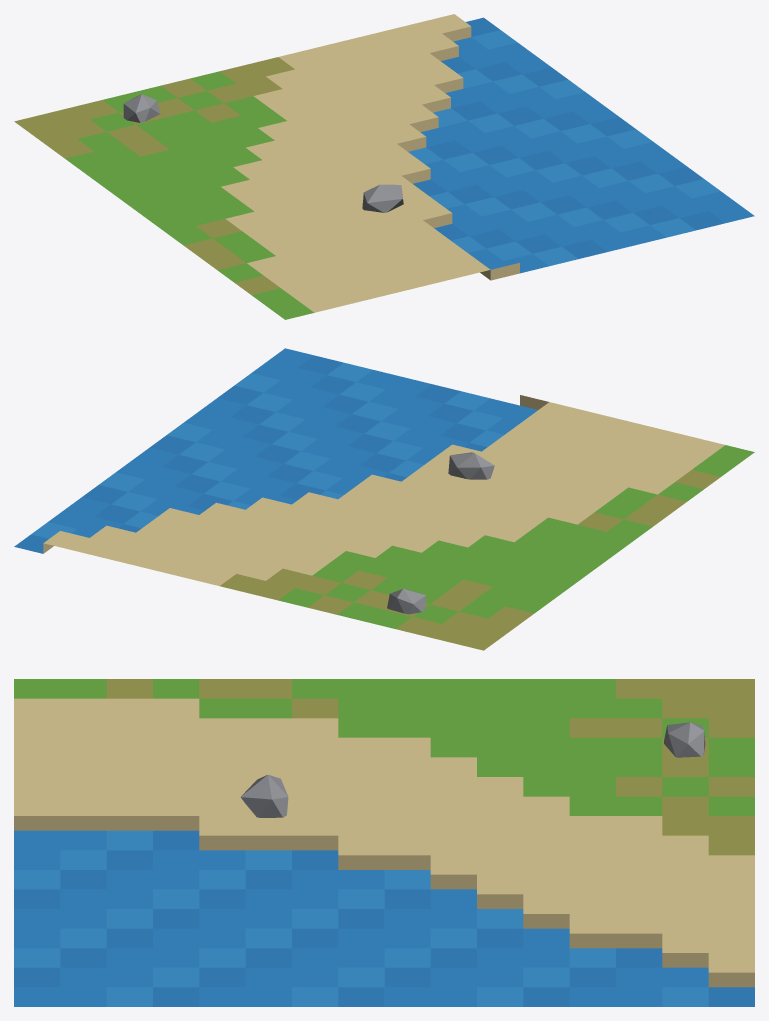
File: chunk_11_4.glb
3 views of the same model, one above another, from view 1: azimuth 30°, elevation 25°; view 2: azimuth 150°, elevation 25°; view 3: azimuth 270°, elevation 25° (orthographic). The views are drawn at different scales.
Visible parts, largest first — view 1: chunk_11_4; view 2: chunk_11_4; view 3: chunk_11_4.
Part boxes in pixels (x1,y1,x2,y2): chunk_11_4: (14,14,754,319); chunk_11_4: (14,348,754,650); chunk_11_4: (14,679,754,1006).
Bounding box in the file's own units: 16 × 1.13 × 16.
